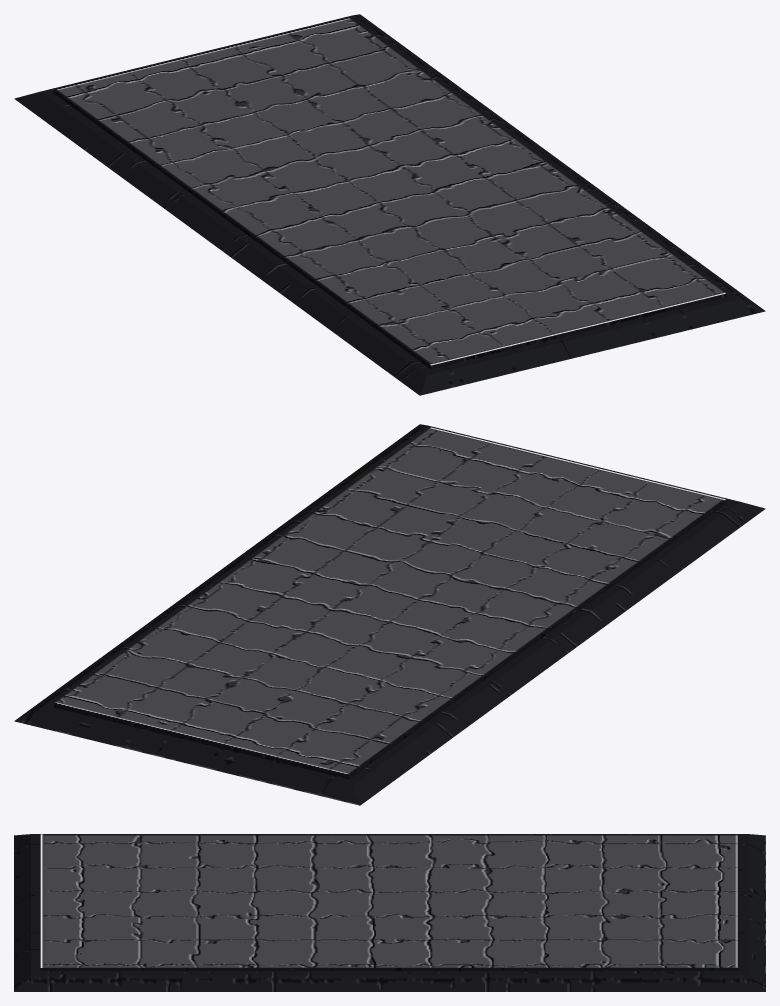
File: Pad.FBX
3 renders of one model, top to bottom at view 1: azimuth 30°, elevation 25°; view 2: azimuth 150°, elevation 25°; view 3: azimuth 270°, elevation 25°, orthographic. The views are drawn at different scales.
Parts seen in each view (by area): view 1: Box006; view 2: Box006; view 3: Box006.
Boxes of the visible parts, x1,y1,x2,y2 form: Box006: (14, 14, 765, 395); Box006: (14, 424, 765, 805); Box006: (14, 834, 765, 991).
Size of the model in its own units: 9.33 by 0.3478 by 18.95.
